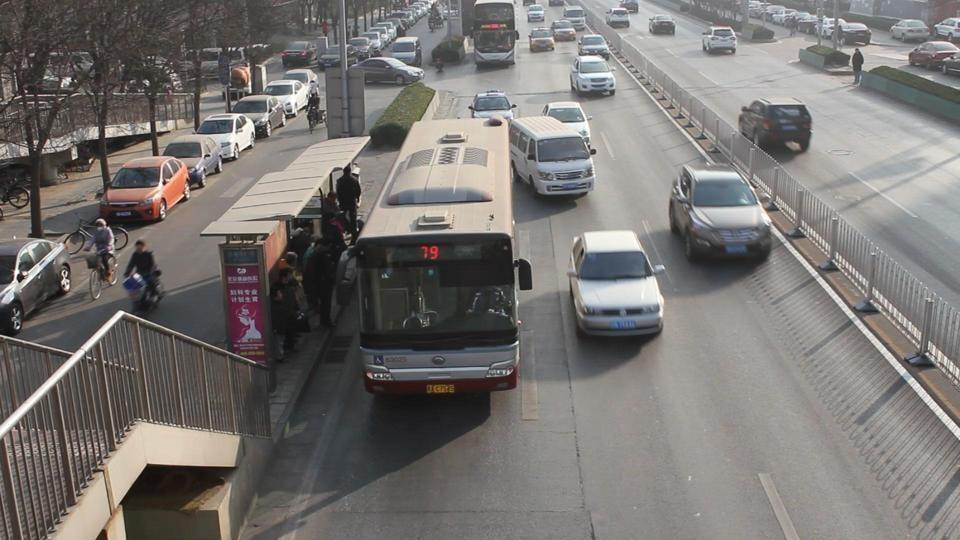car: (566, 228, 667, 338), (667, 162, 773, 264), (0, 235, 76, 334), (507, 113, 595, 196), (98, 156, 190, 224), (0, 140, 66, 210), (737, 97, 813, 153), (159, 136, 223, 188), (194, 114, 256, 162), (542, 101, 595, 154), (231, 95, 286, 138), (349, 57, 425, 85), (569, 55, 617, 99), (263, 79, 309, 117), (468, 90, 517, 123), (907, 40, 958, 68), (702, 25, 738, 55), (889, 18, 931, 42), (576, 33, 610, 58), (933, 16, 960, 40), (941, 55, 960, 76)
